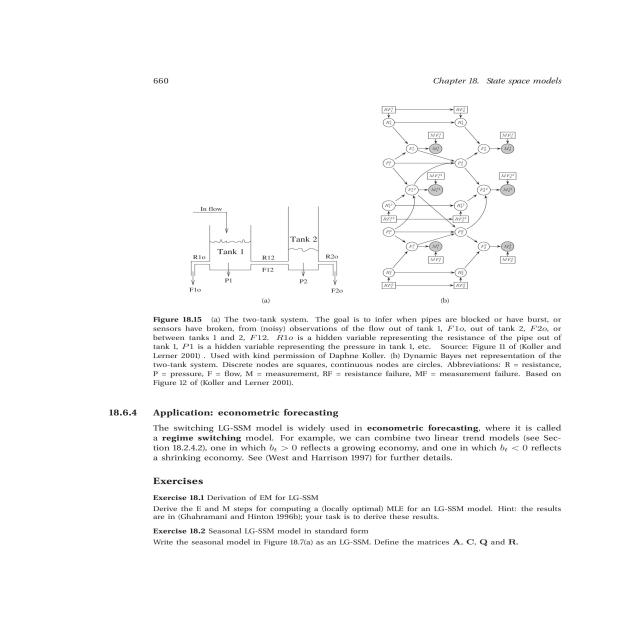diagram: (123, 92, 606, 396)
